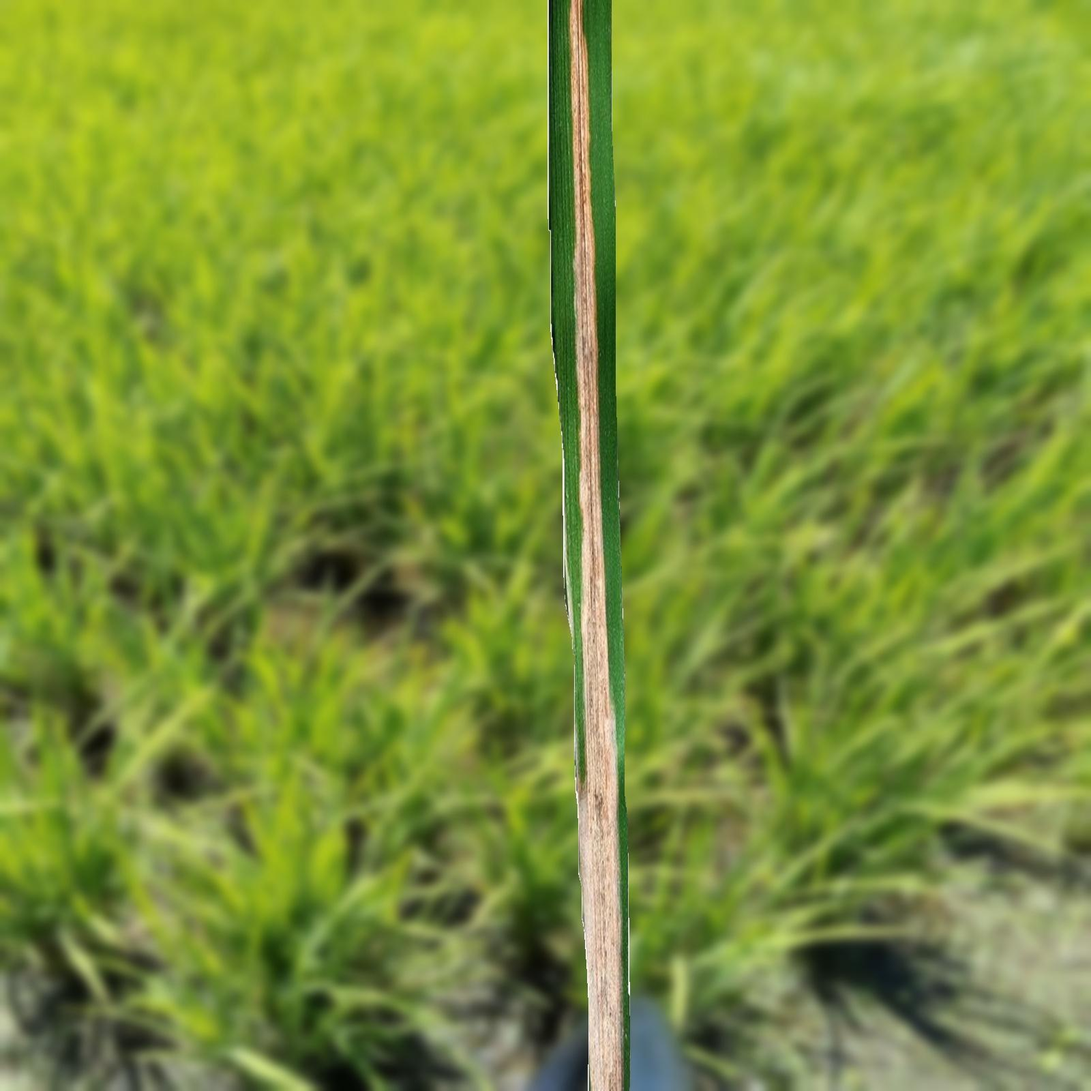BLB: (568, 1, 624, 1090)
LEAF: (548, 0, 631, 1090)
